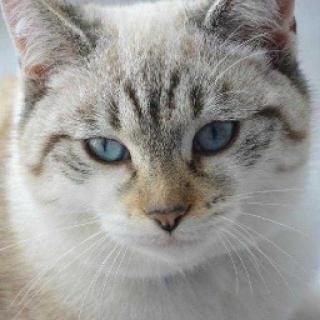cat: (10, 0, 302, 268)
nose: (131, 166, 199, 238)
